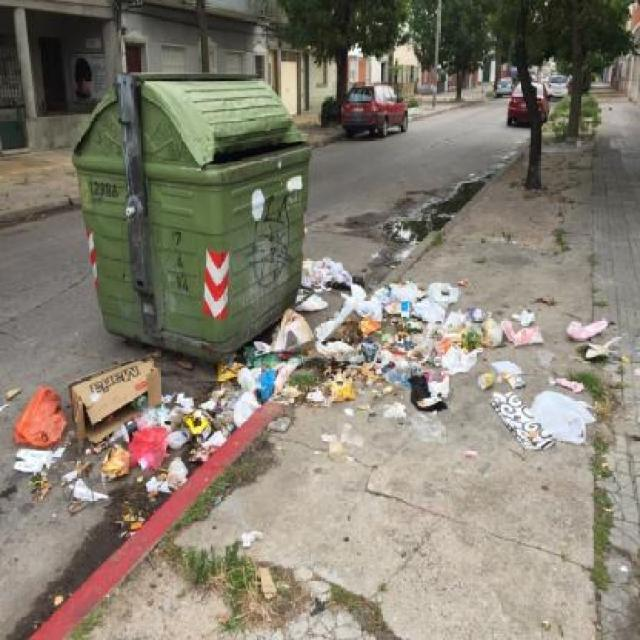garbage: (8, 382, 220, 461), (249, 331, 480, 366), (294, 362, 452, 410), (61, 463, 186, 512), (497, 388, 588, 455), (373, 277, 466, 327), (302, 251, 369, 316), (220, 359, 286, 422), (468, 303, 540, 346), (239, 526, 276, 600), (81, 354, 164, 382), (566, 315, 622, 352), (317, 426, 352, 458), (477, 369, 517, 390), (115, 514, 150, 536), (282, 306, 300, 330), (459, 443, 478, 458)
